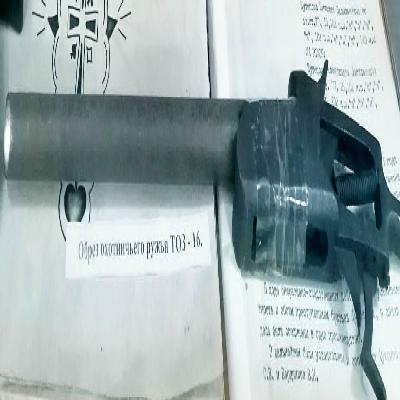weapon: (2, 62, 400, 400)
